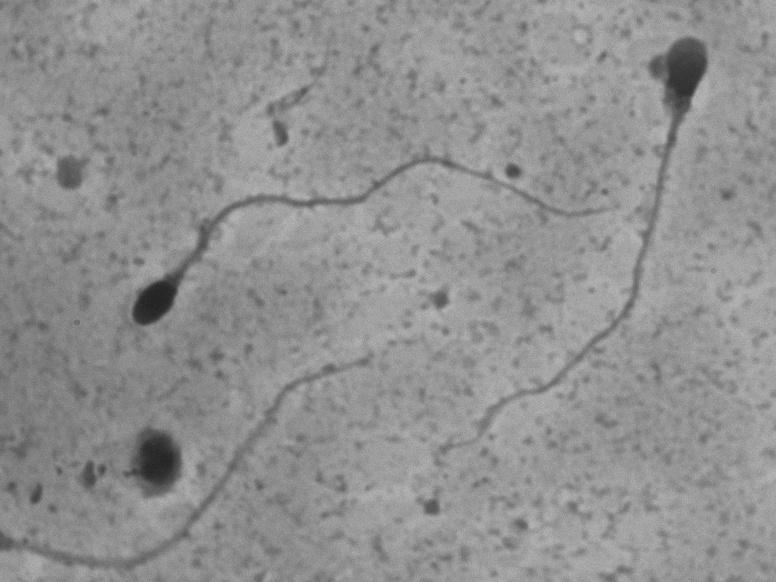Abnormal: (399, 25, 727, 483)
Normal: (107, 131, 617, 366)
